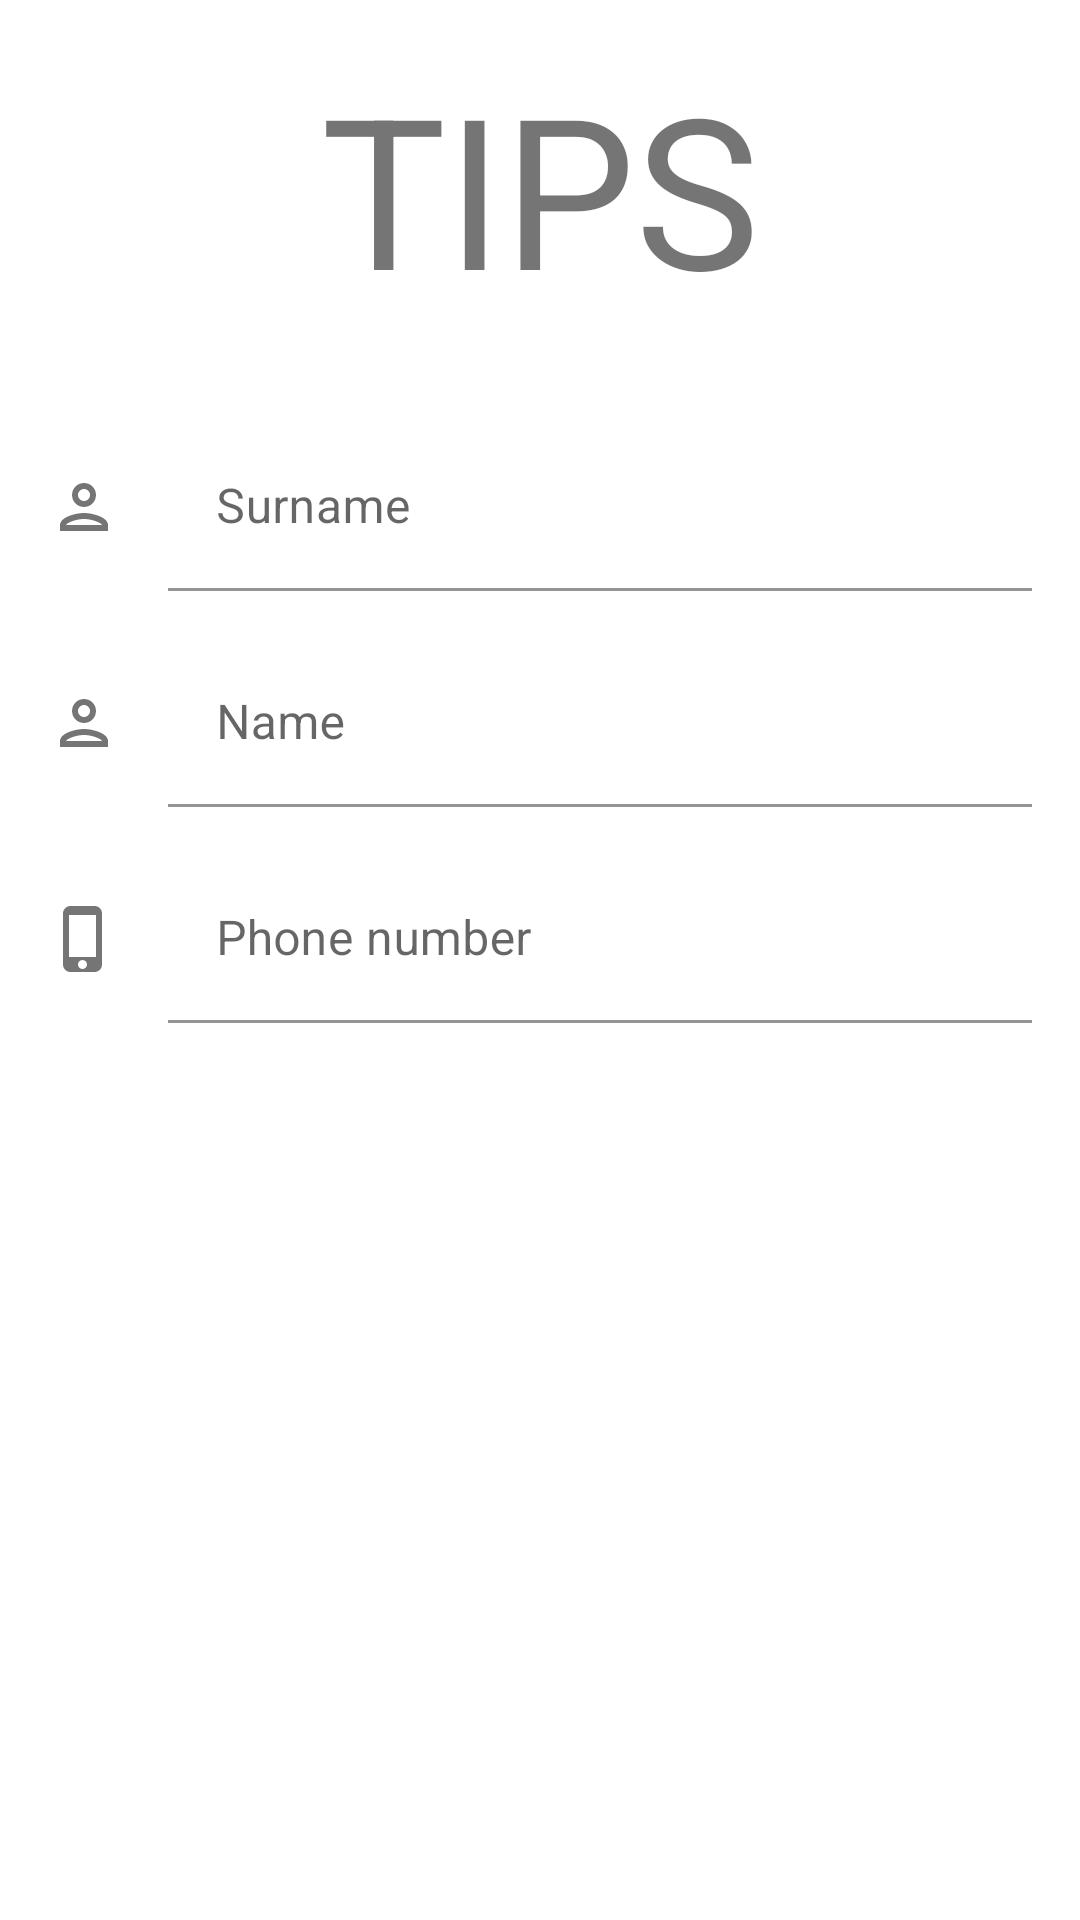

Screen size 1080x1920. Icon name, then its center in pixels as [x,y]:
person: [84,507], [84,723]
